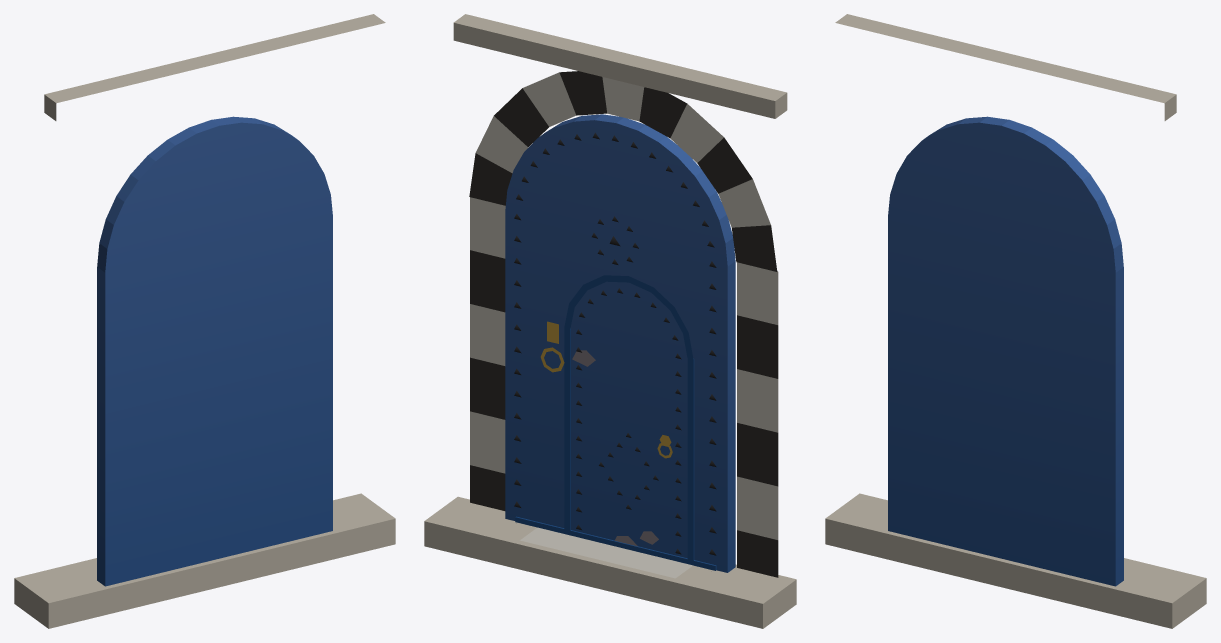
File: door_medina_blue.glb
The picture shows the model from 3 angles, left to right: view 1: azimuth 30°, elevation 25°; view 2: azimuth 150°, elevation 25°; view 3: azimuth 330°, elevation 25°; orthographic projection. The views are drawn at different scales.
Visible parts, largest first — view 1: door_medina_blue; view 2: door_medina_blue; view 3: door_medina_blue.
Part boxes in pixels (x1,y1,x2,y2): door_medina_blue: (14,14,395,628); door_medina_blue: (424,14,796,628); door_medina_blue: (825,14,1206,628).
Bounding box in the file's own units: 1.98 × 2.85 × 0.34.
